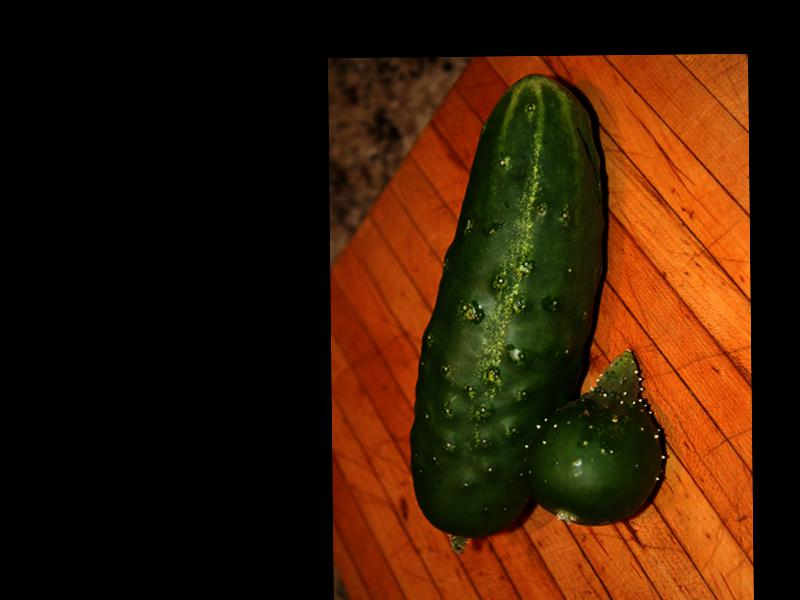Cucumber: (406, 72, 609, 539)
